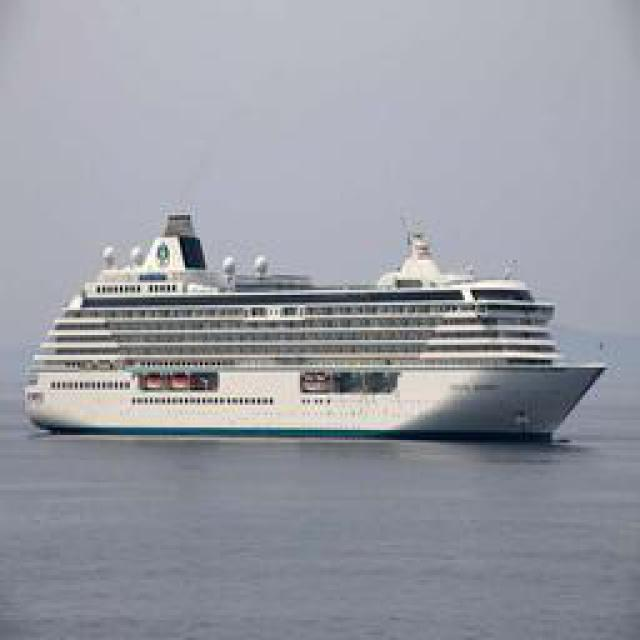Ship: (21, 206, 604, 444)
